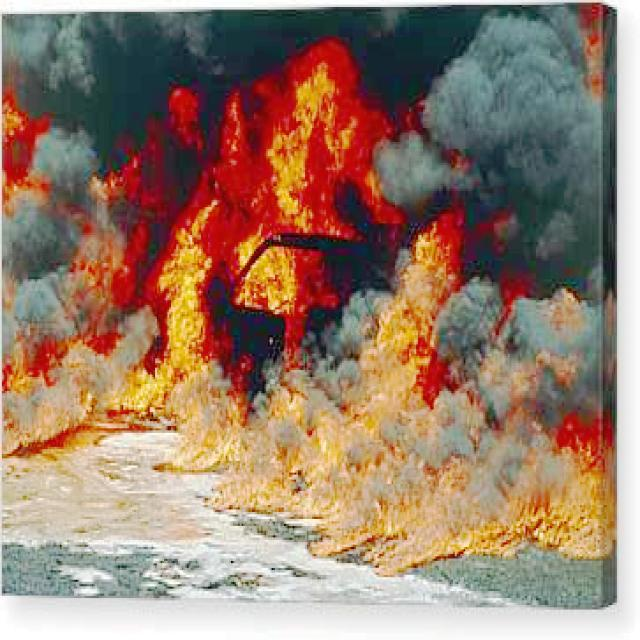api: (149, 403, 609, 590), (324, 216, 464, 505), (105, 196, 245, 435), (244, 35, 396, 242)
asap: (3, 1, 280, 424), (9, 1, 253, 357), (374, 9, 610, 301), (425, 270, 609, 428)
